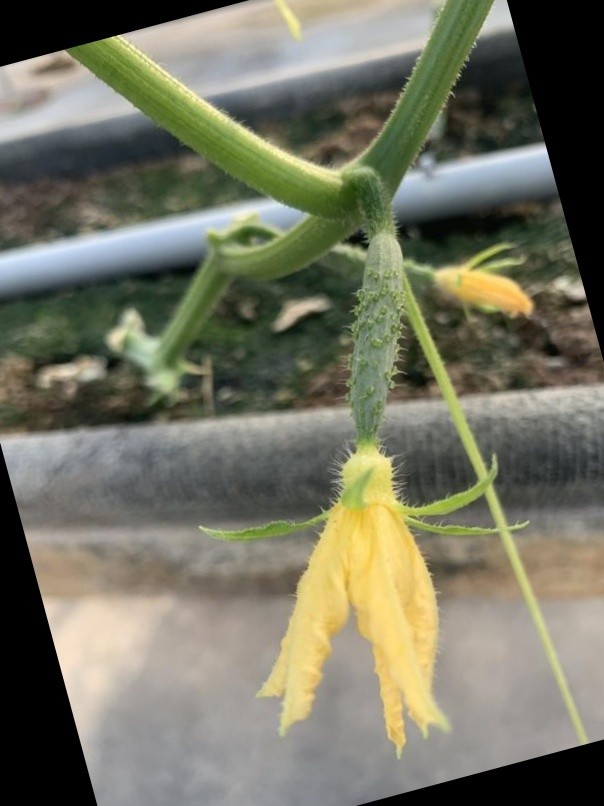bear: (261, 226, 438, 732)
